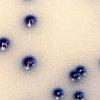Blue: (20, 53, 38, 72), (0, 35, 12, 55), (23, 14, 38, 28), (67, 69, 81, 83), (74, 63, 87, 78), (51, 87, 65, 99), (72, 89, 87, 100)
